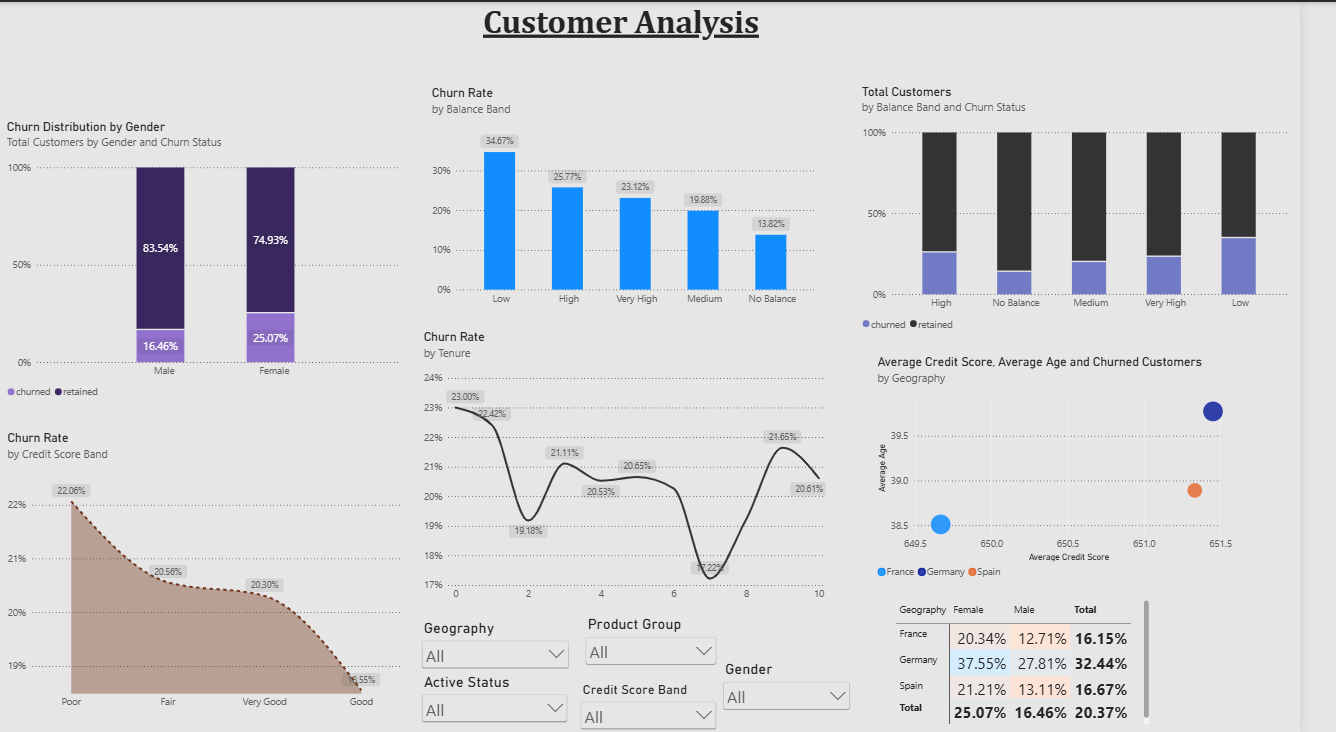

Layout of this report page (visuals, bound fields, positions):
{"tool":"powerbi","page":{"name":"Page 2","canvas":[1920,1080],"ordinal":1},"visuals":[{"type":"hundredPercentStackedColumnChart","title":"Churn Distribution by Gender","fields":{"Category":["Churn_Modelling.Gender"],"Series":["Churn_Modelling.Churn Status"],"Y":["Churn_Modelling.Total Customers"]},"box":[10,0,612,446],"z":0},{"type":"areaChart","fields":{"Category":["Churn_Modelling.Credit Score Band"],"Y":["Churn_Modelling.Churn Rate"]},"box":[11,485.9,612,446],"z":1000},{"type":"lineChart","fields":{"Category":["Churn_Modelling.Tenure"],"Y":["Churn_Modelling.Churn Rate"]},"box":[633.1,362.6,625.8,436.2],"z":2000},{"type":"clusteredColumnChart","fields":{"Category":["Churn_Modelling.Balance Band"],"Y":["Churn_Modelling.Churn Rate"]},"box":[646,3.7,598.2,358.9],"z":3000},{"type":"hundredPercentStackedColumnChart","fields":{"Category":["Churn_Modelling.Balance Band"],"Series":["Churn_Modelling.Churn Status"],"Y":["Churn_Modelling.Total Customers"]},"box":[1258.9,3.7,660.7,397.5],"z":4000},{"type":"pivotTable","fields":{"Columns":["Churn_Modelling.Gender"],"Rows":["Churn_Modelling.Geography"],"Values":["Churn_Modelling.Churn Rate"]},"box":[1385.9,835.6,406.8,215.3],"z":5000},{"type":"scatterChart","fields":{"Series":["Churn_Modelling.Geography"],"Size":["Churn_Modelling.Churned Customers"],"X":["Churn_Modelling.Average Credit Score"],"Y":["Churn_Modelling.Average Age"]},"box":[1308.6,432.5,559.5,366.3],"z":6000},{"type":"slicer","fields":{"Values":["Churn_Modelling.Geography"]},"box":[622.1,855.8,226.4,75.5],"z":7000},{"type":"slicer","fields":{"Values":["Churn_Modelling.Gender"]},"box":[1124.5,846.6,196.9,110.4],"z":8000},{"type":"slicer","fields":{"Values":["Churn_Modelling.Active Status"]},"box":[622.1,933.1,224.5,110.4],"z":9000},{"type":"slicer","fields":{"Values":["Churn_Modelling.Product Group"]},"box":[889,850.3,202.5,81],"z":10000},{"type":"slicer","fields":{"Values":["Churn_Modelling.Credit Score Band"]},"box":[889,933.1,209.8,79.1],"z":11000}]}

Visuals, with their boxes in screenshot pixels (x1, y1, x2, y2), scaled from the page's 1920x1080 canvas onto the 1336x732 screenshot:
"Churn Distribution by Gender" hundredPercentStackedColumnChart: (left=7, top=0, right=433, bottom=302)
areaChart - Churn_Modelling.Credit Score Band x Churn_Modelling.Churn Rate: (left=8, top=329, right=434, bottom=632)
lineChart - Churn_Modelling.Tenure x Churn_Modelling.Churn Rate: (left=441, top=246, right=876, bottom=541)
clusteredColumnChart - Churn_Modelling.Balance Band x Churn_Modelling.Churn Rate: (left=450, top=3, right=866, bottom=246)
hundredPercentStackedColumnChart - Churn_Modelling.Balance Band x Churn_Modelling.Churn Status: (left=876, top=3, right=1335, bottom=272)
pivotTable - Churn_Modelling.Gender x Churn_Modelling.Geography: (left=964, top=566, right=1247, bottom=712)
scatterChart - Churn_Modelling.Geography x Churn_Modelling.Churned Customers: (left=911, top=293, right=1300, bottom=541)
slicer - Churn_Modelling.Geography: (left=433, top=580, right=590, bottom=631)
slicer - Churn_Modelling.Gender: (left=782, top=574, right=919, bottom=649)
slicer - Churn_Modelling.Active Status: (left=433, top=632, right=589, bottom=707)
slicer - Churn_Modelling.Product Group: (left=619, top=576, right=760, bottom=631)
slicer - Churn_Modelling.Credit Score Band: (left=619, top=632, right=765, bottom=686)
